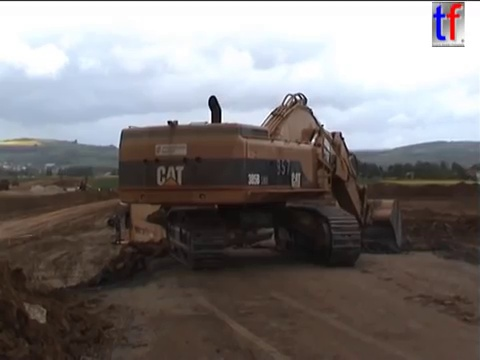excavator: (114, 89, 405, 270), (61, 179, 101, 197)
truck: (105, 196, 276, 275), (9, 175, 22, 188), (1, 177, 11, 192)
